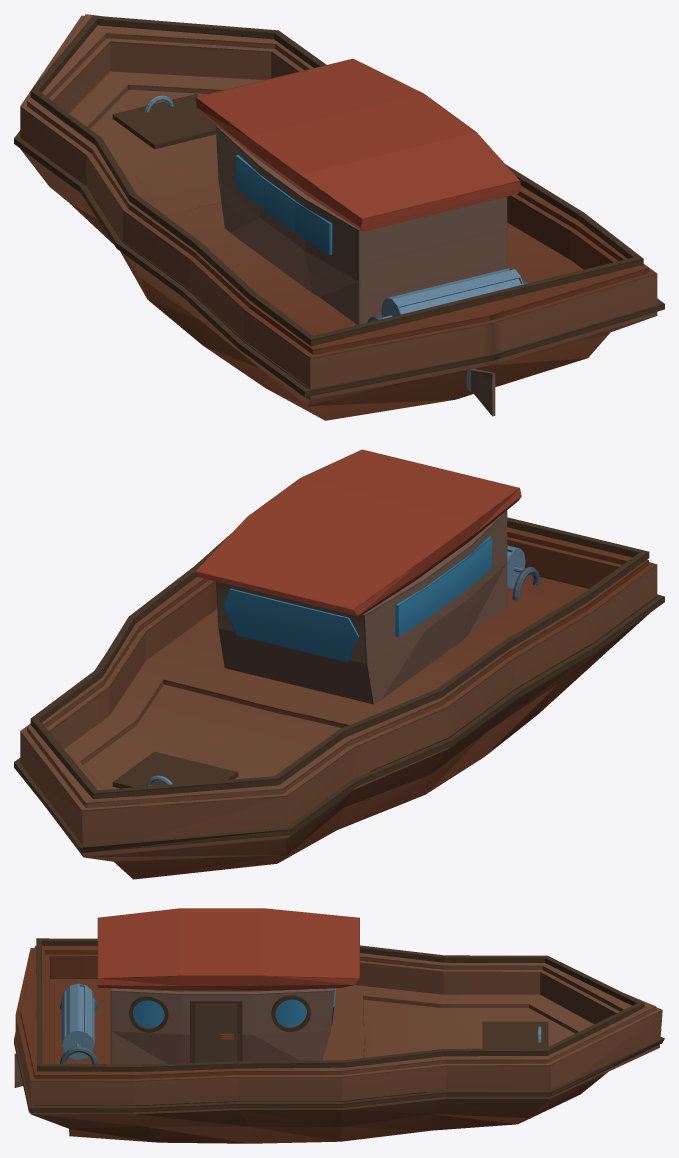
3 views of the same model, one above another, from view 1: azimuth 30°, elevation 25°; view 2: azimuth 150°, elevation 25°; view 3: azimuth 270°, elevation 25° (orthographic). The views are drawn at different scales.
Visible parts, largest first — view 1: Node; view 2: Node; view 3: Node.
Boxes of the visible parts, box(x1,y1,x2,y2) form: Node: box(14, 14, 664, 420); Node: box(14, 449, 664, 879); Node: box(14, 908, 664, 1143).
Size of the model in its own units: 239 by 133 by 475.
1 material, 1 textured.
